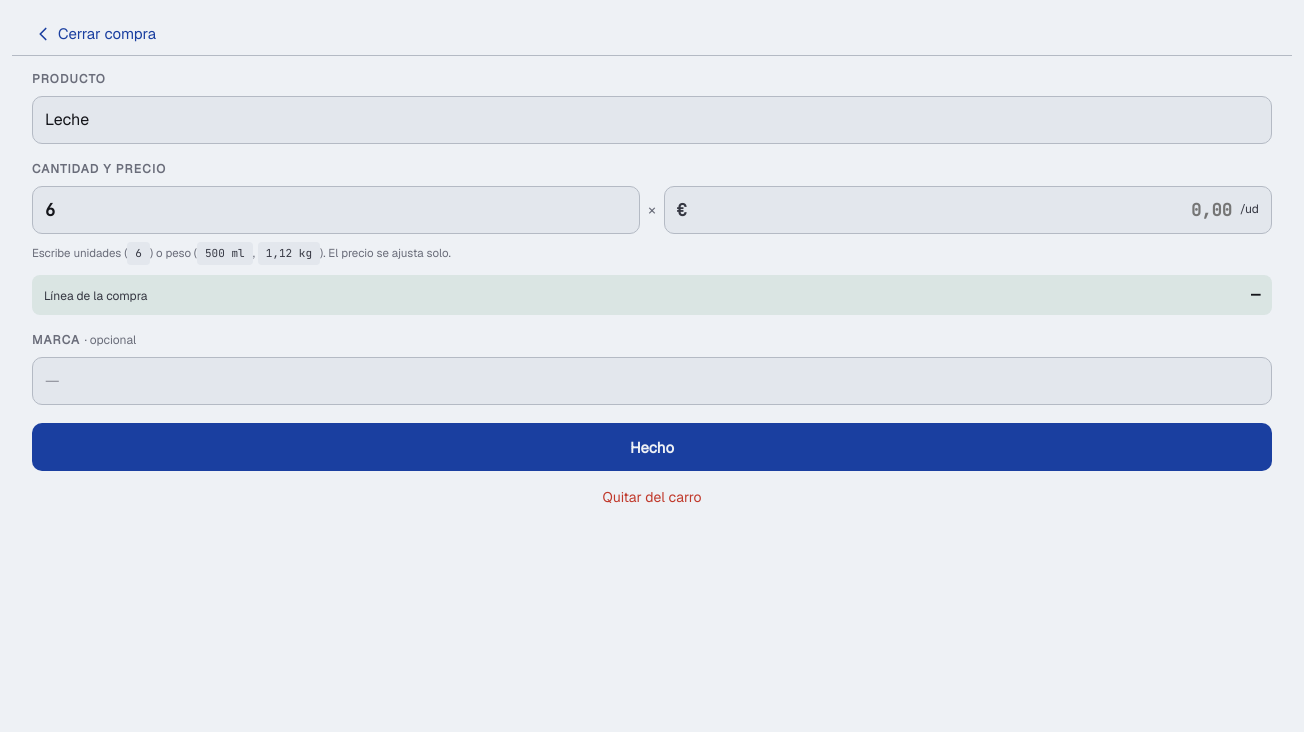
Test: the unit is derived from the quantity — /ud for a count, /kg for a weight
The width and height of the screenshot is (1304, 732).
Expected: the text "/ud" is shown, [1240,202,1259,218]
Type "500 ml" into the field with placeholder "6" at x=336, y=210, box [32,186,640,234]
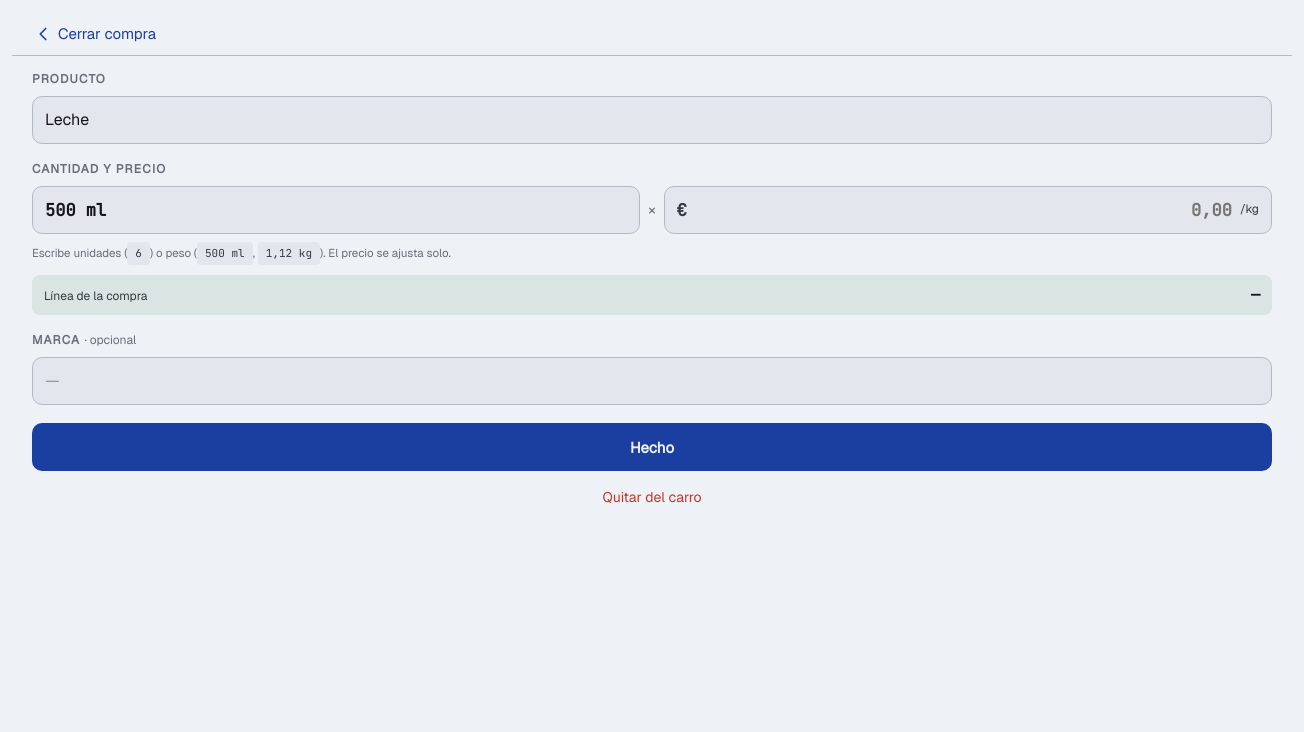
Result: the text "/kg" is shown at [1240,202,1259,218]
